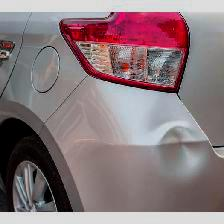bumper_dent: (152, 116, 216, 201)
